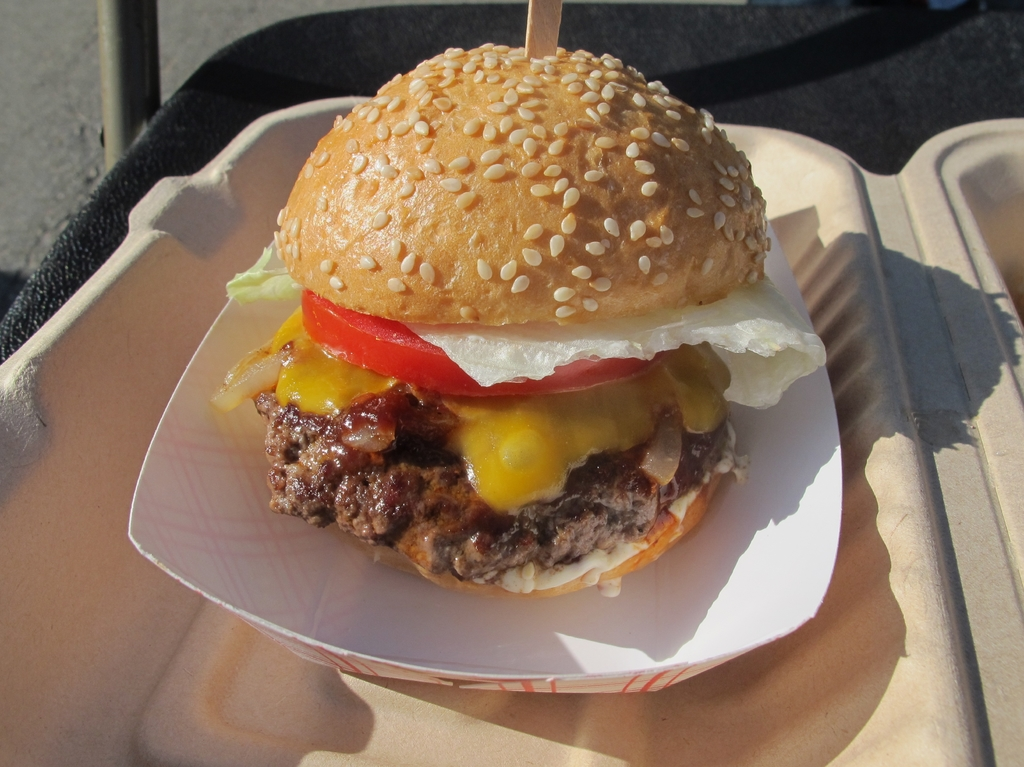Hamburger: (209, 41, 826, 598)
